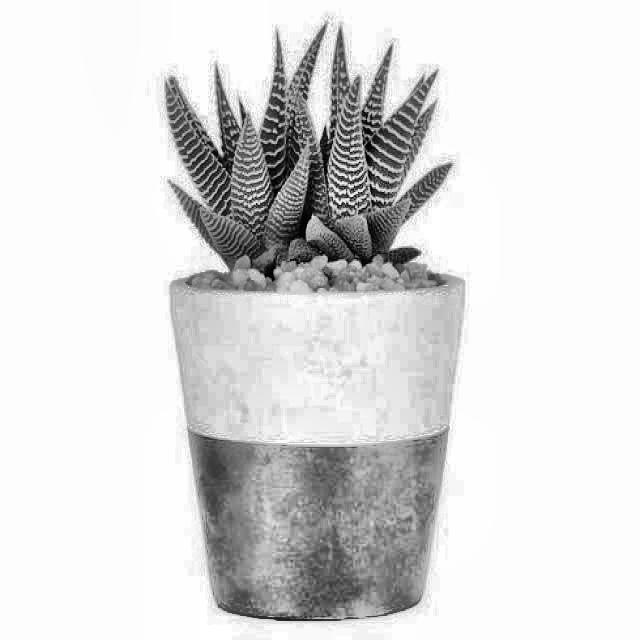plants: (138, 25, 458, 556)
